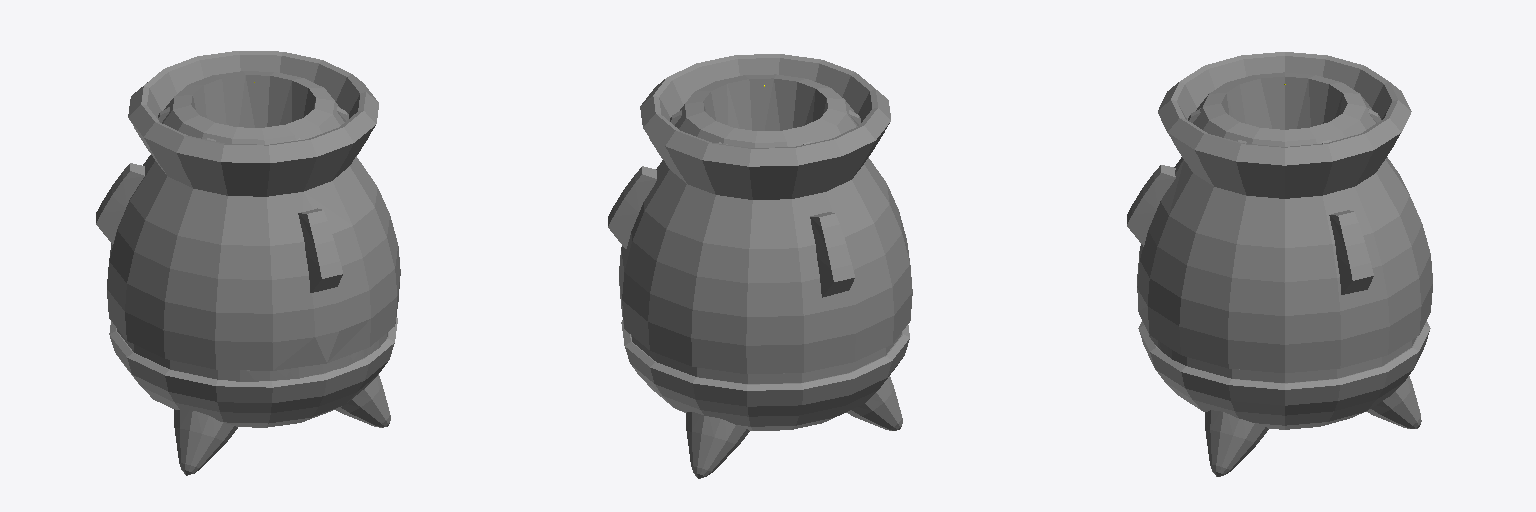
The model's file is mis_obj_sprinkler_HD.obj.
3 renders of one model, left to right at view 1: azimuth 30°, elevation 25°; view 2: azimuth 150°, elevation 25°; view 3: azimuth 270°, elevation 25°, orthographic.
Visible parts, largest first — view 1: mis_obj_sprinkler_body, mis_obj_sprinkler_glass, mis_obj_sprinkler_eye; view 2: mis_obj_sprinkler_body, mis_obj_sprinkler_glass, mis_obj_sprinkler_eye; view 3: mis_obj_sprinkler_body, mis_obj_sprinkler_glass, mis_obj_sprinkler_eye.
Part boxes in pixels (x1,y1,x2,y2): mis_obj_sprinkler_body: (96, 51, 400, 475); mis_obj_sprinkler_glass: (134, 128, 369, 188); mis_obj_sprinkler_eye: (177, 72, 374, 381); mis_obj_sprinkler_body: (608, 54, 912, 478); mis_obj_sprinkler_glass: (649, 132, 884, 191); mis_obj_sprinkler_eye: (689, 75, 841, 139); mis_obj_sprinkler_body: (1127, 52, 1432, 476); mis_obj_sprinkler_glass: (1173, 142, 1395, 190); mis_obj_sprinkler_eye: (1153, 73, 1361, 352).
Size of the model in its own units: 68.22 by 87.25 by 70.3.